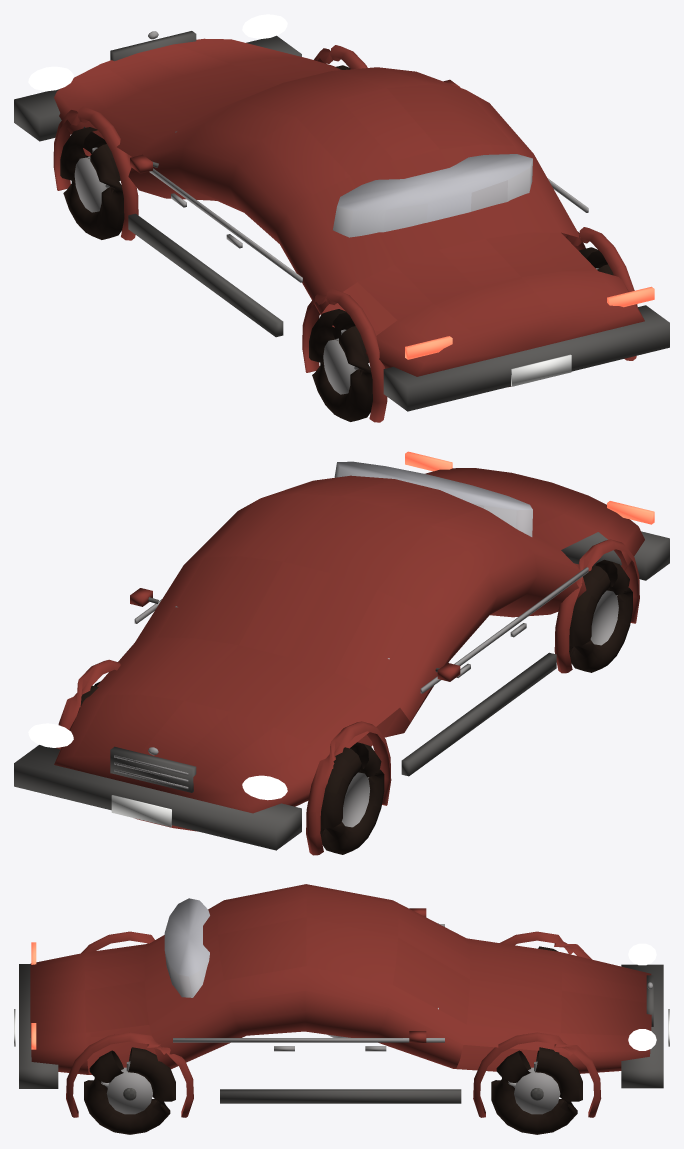
The model's file is sport.glb.
The picture shows the model from 3 angles, top to bottom: view 1: azimuth 30°, elevation 25°; view 2: azimuth 150°, elevation 25°; view 3: azimuth 270°, elevation 25°; orthographic projection. The views are drawn at different scales.
Visible parts, largest first — view 1: Body, WheelRL, WheelFL; view 2: Body, WheelFL, WheelRL; view 3: Body, WheelRR, WheelFR.
Boxes of the visible parts, x1=… form: Body: x1=14, y1=14, x2=669, y2=422; WheelRL: x1=309, y1=309, x2=372, y2=421; WheelFL: x1=60, y1=127, x2=124, y2=239; Body: x1=14, y1=451, x2=669, y2=855; WheelFL: x1=320, y1=742, x2=384, y2=854; WheelRL: x1=569, y1=559, x2=632, y2=672; Body: x1=14, y1=884, x2=669, y2=1117; WheelRR: x1=84, y1=1047, x2=175, y2=1134; WheelFR: x1=491, y1=1047, x2=582, y2=1134.
Bounding box in the file's own units: 2.15 × 1.38 × 4.67.
Materials: 9 (6 with a texture image).
